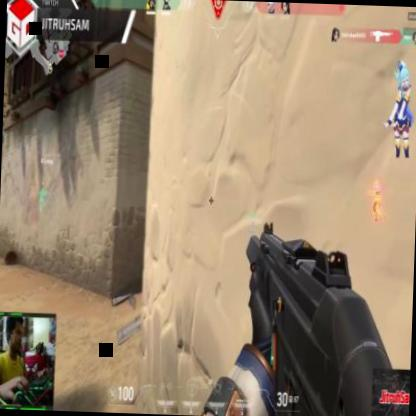enemy: (366, 178, 386, 223)
enemy_head: (374, 181, 378, 191)
